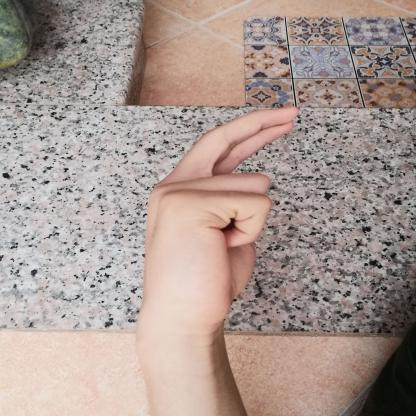ZAY: (122, 97, 312, 348)
